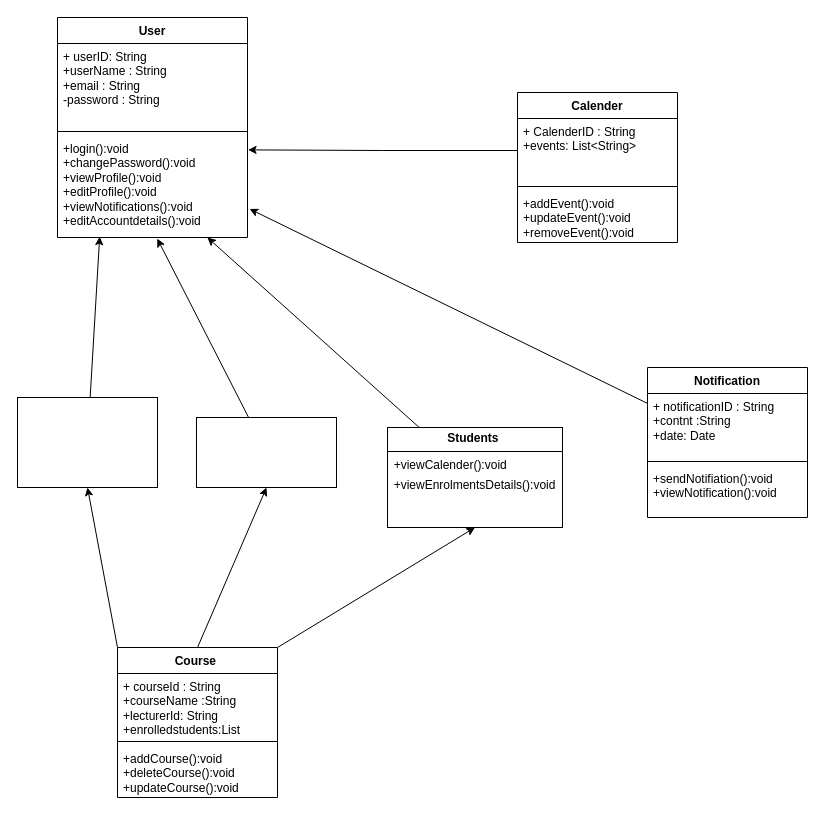
The diagram is 825 pixels wide and 818 high, and some of its shapes have lost their labels. The centre of each missing label's shape, as x and y in pixels:
"Admin +editCalender():void +sendNotification():void +manageCourse():void" goes at (x=87, y=442).
"Lecturer +editCalender():void +sendNotification():void" goes at (x=266, y=452).
